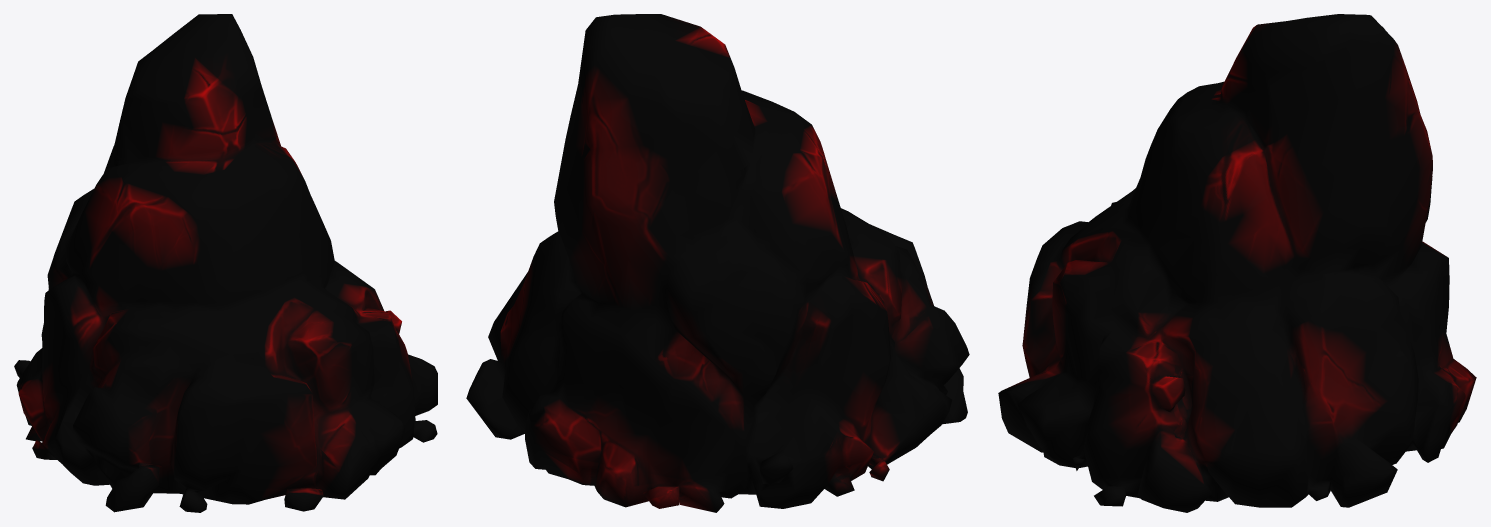
File: ore_rock.glb
3 views of the same model, side by side, from view 1: azimuth 30°, elevation 25°; view 2: azimuth 150°, elevation 25°; view 3: azimuth 270°, elevation 25° (orthographic). The views are drawn at different scales.
Parts seen in each view (by area): view 1: Mesh_0; view 2: Mesh_0; view 3: Mesh_0.
Part boxes in pixels (box(x1,y1,x2,y2)): Mesh_0: box(14, 14, 437, 512); Mesh_0: box(466, 14, 969, 512); Mesh_0: box(998, 14, 1476, 512).
Size of the model in its own units: 1.23 by 1.2 by 1.21.
1 material, 1 textured.
